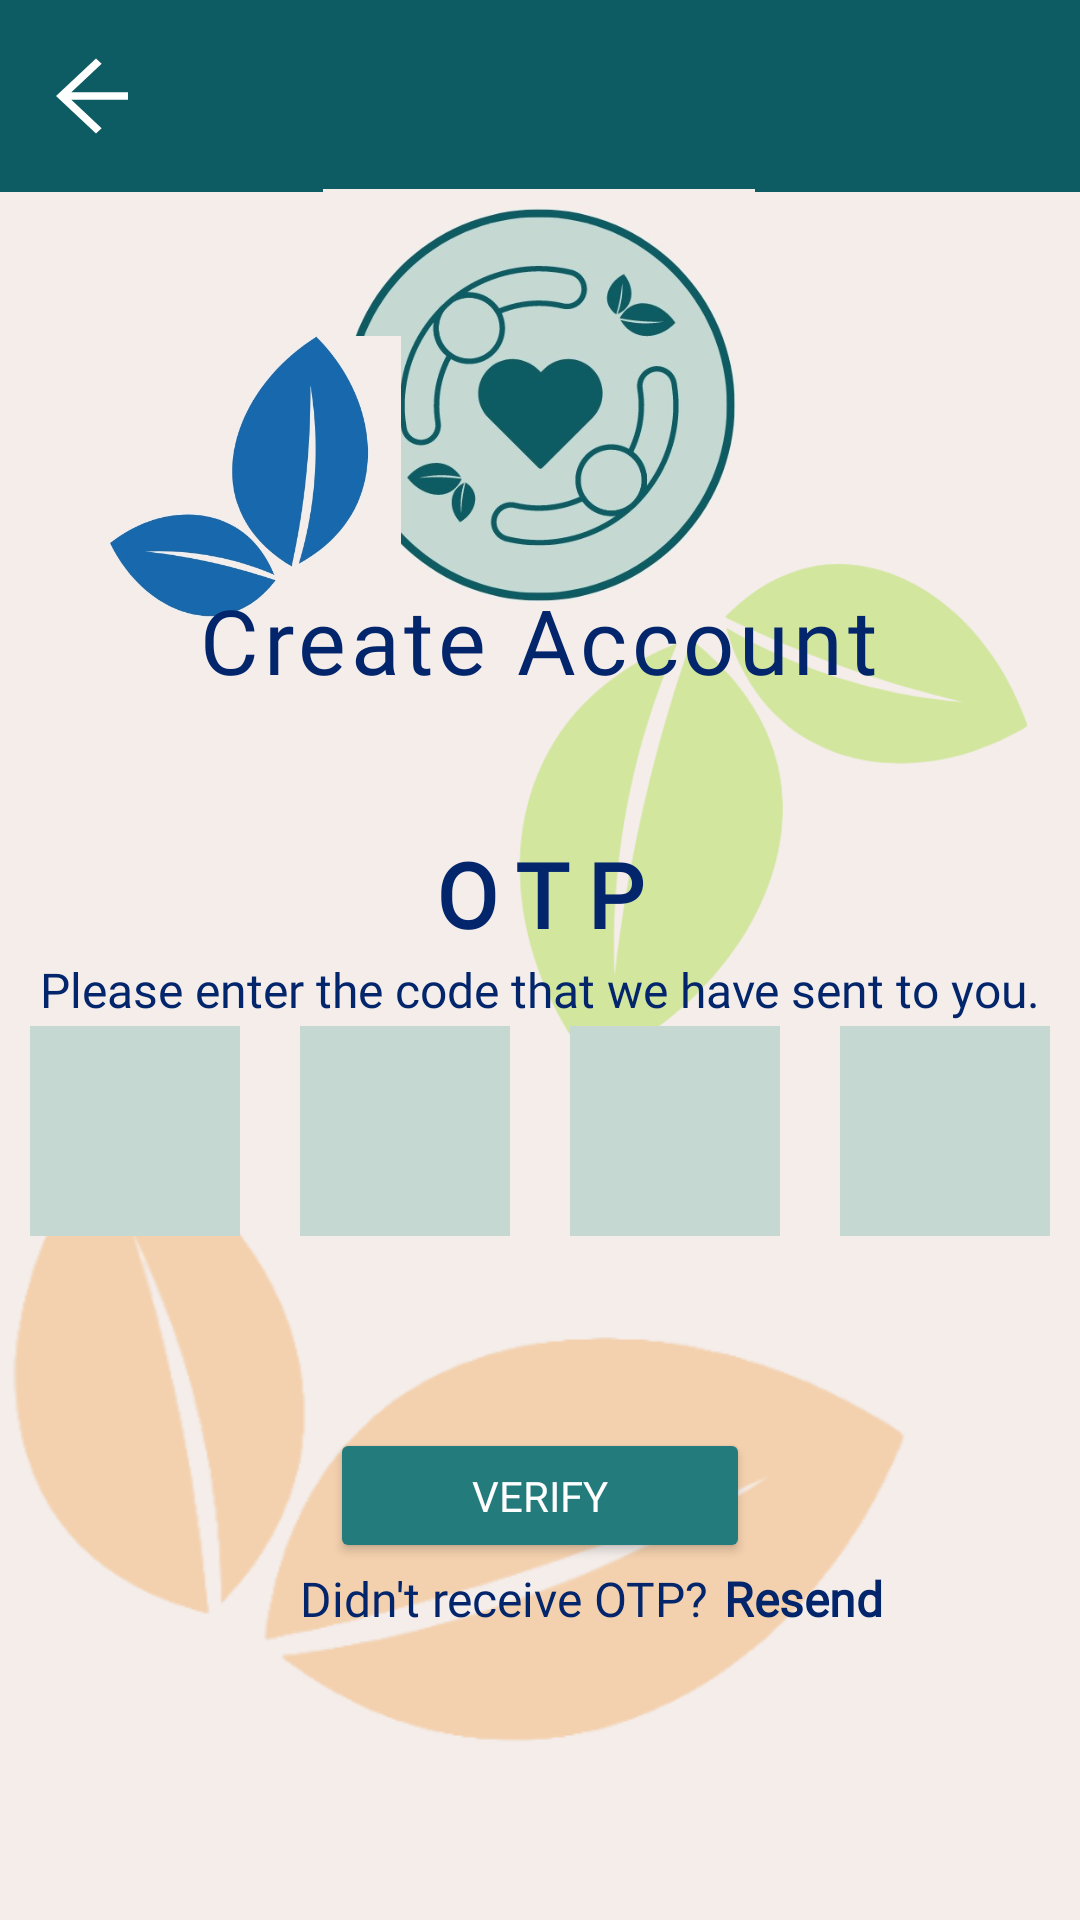

Where icons sit on this 1080px x 1920px app screen, as bbox=[x1, y1, x2, y2]:
Back: bbox=[56, 58, 128, 134]
